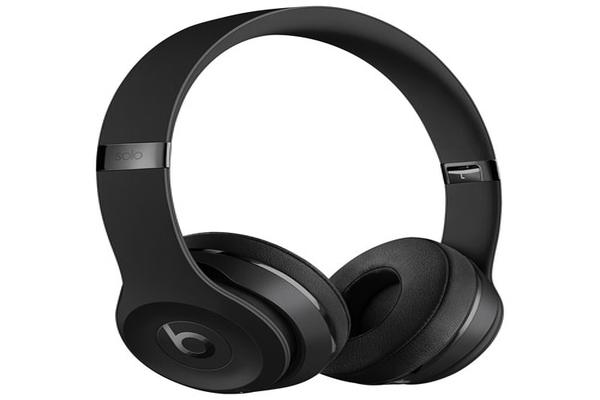headphone: (30, 5, 538, 398)
